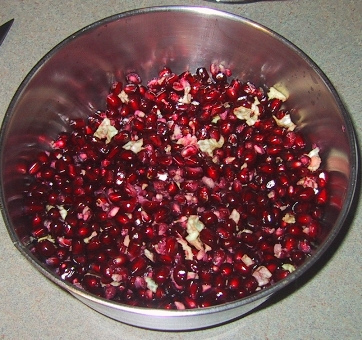pomogranate: (28, 61, 326, 310)
